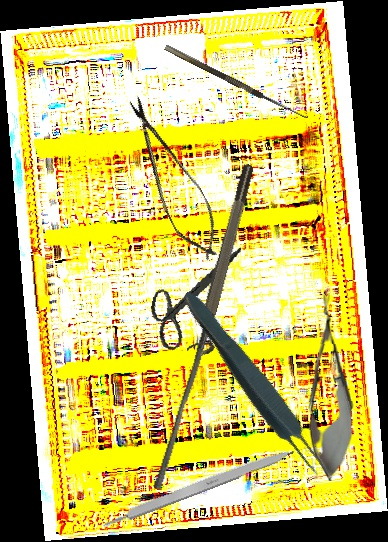Fixation Ring: (186, 162, 266, 359)
Hook Surgical: (163, 37, 313, 122)
Iris Scissors: (143, 231, 242, 361)
Micro Scissor: (112, 87, 233, 271), (302, 292, 357, 482)
Pusher: (152, 285, 223, 493)
Scalpel Handle: (98, 443, 296, 531)
Tissue Forceps: (174, 284, 338, 488)
